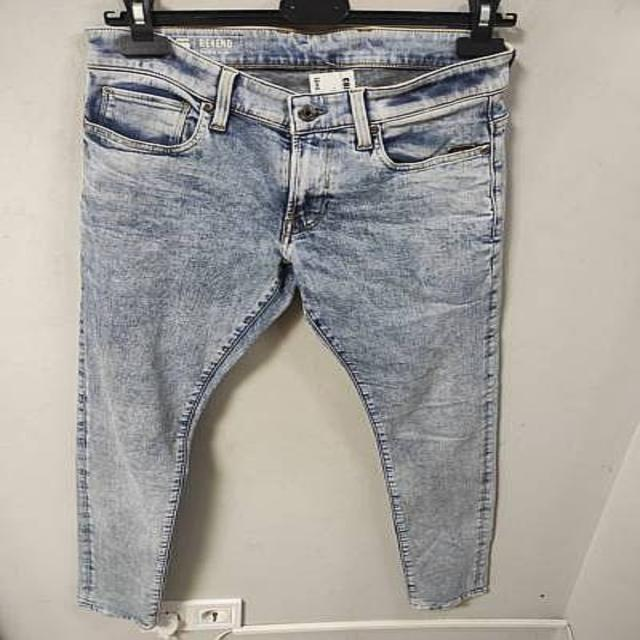TROUSER: (59, 17, 533, 631)
